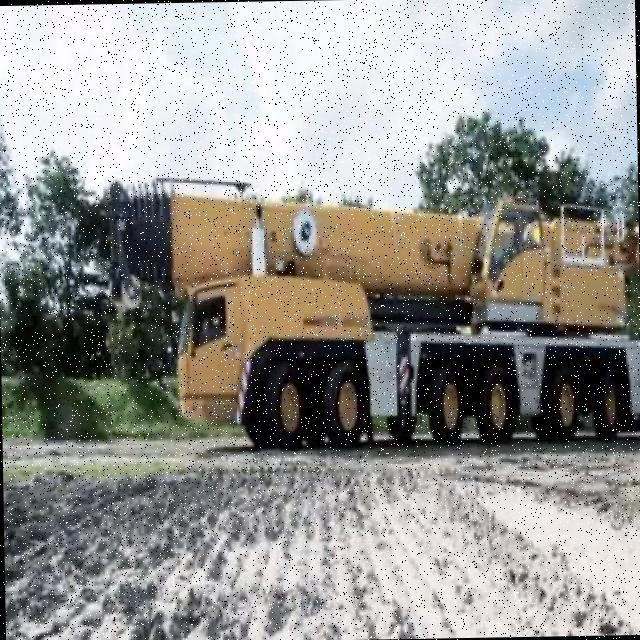Mobile Crane: (76, 171, 640, 451)
